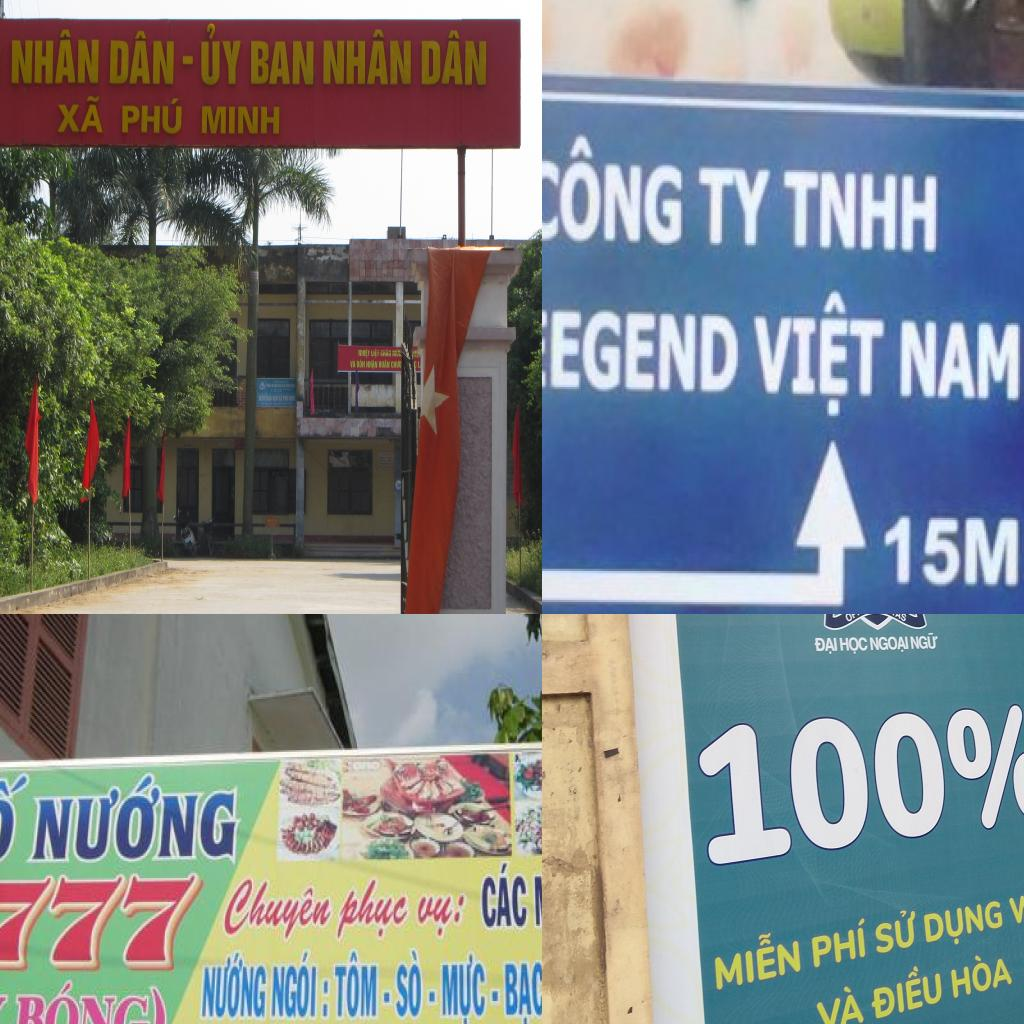text: (690, 700, 1024, 869), (26, 767, 246, 868), (0, 872, 207, 975), (542, 300, 745, 400), (747, 288, 891, 422), (542, 123, 688, 251), (779, 168, 943, 258), (894, 314, 1024, 407), (219, 878, 339, 943), (695, 161, 777, 252), (708, 926, 804, 990), (11, 980, 150, 1024), (321, 28, 413, 88), (865, 954, 942, 1024), (333, 875, 413, 941), (8, 28, 99, 86), (199, 952, 270, 1023), (922, 897, 1006, 951), (420, 29, 488, 86), (268, 948, 320, 1022), (109, 31, 176, 86), (440, 951, 488, 1024), (480, 863, 530, 931), (946, 951, 1015, 999), (809, 915, 869, 969), (249, 40, 315, 86), (199, 24, 244, 87), (0, 772, 30, 866), (409, 894, 467, 942), (811, 980, 868, 1024), (122, 96, 183, 136), (200, 105, 280, 135), (504, 961, 542, 1024), (870, 906, 916, 956), (394, 950, 424, 1021), (58, 92, 104, 134), (144, 985, 168, 1024), (869, 634, 910, 655), (839, 614, 908, 625), (1008, 885, 1024, 926), (839, 636, 869, 656), (908, 632, 941, 650), (811, 635, 839, 656), (321, 979, 331, 1021), (358, 348, 371, 359), (380, 348, 392, 358), (366, 360, 378, 370), (378, 360, 391, 368), (370, 348, 380, 358), (392, 348, 402, 358), (356, 359, 366, 369), (391, 360, 402, 368), (258, 394, 266, 402), (350, 359, 356, 369), (272, 395, 279, 402), (282, 394, 288, 402), (266, 395, 272, 402), (414, 360, 418, 370), (278, 394, 283, 402), (418, 360, 420, 368)
